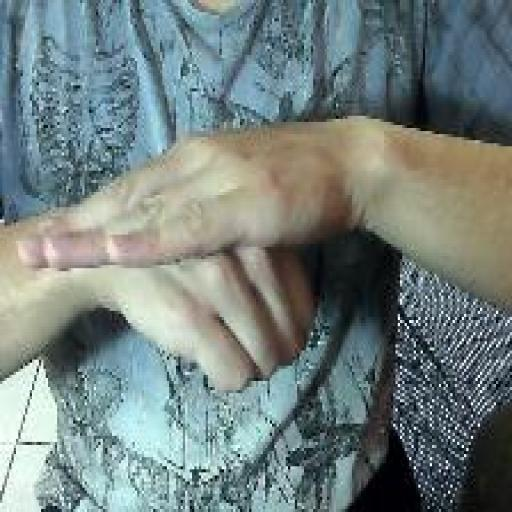Inu -dog-: (14, 125, 322, 399)
